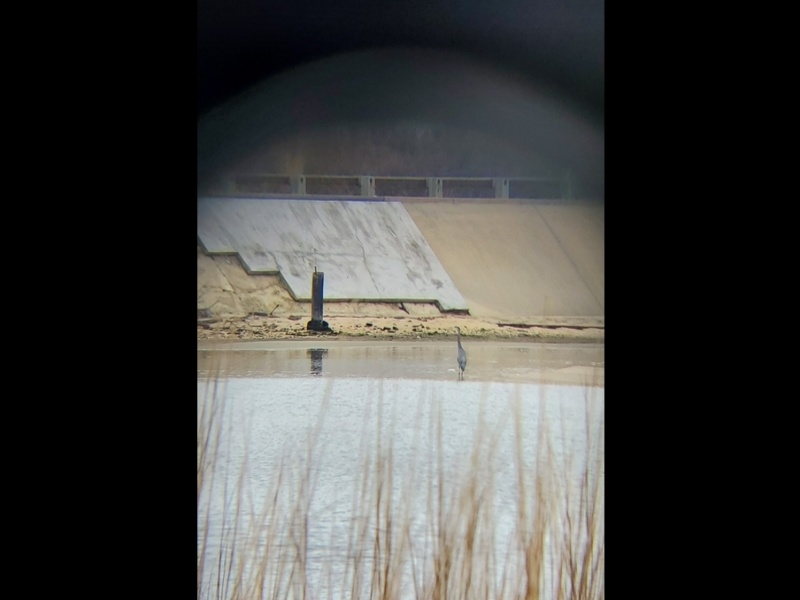heron: (452, 323, 469, 379)
